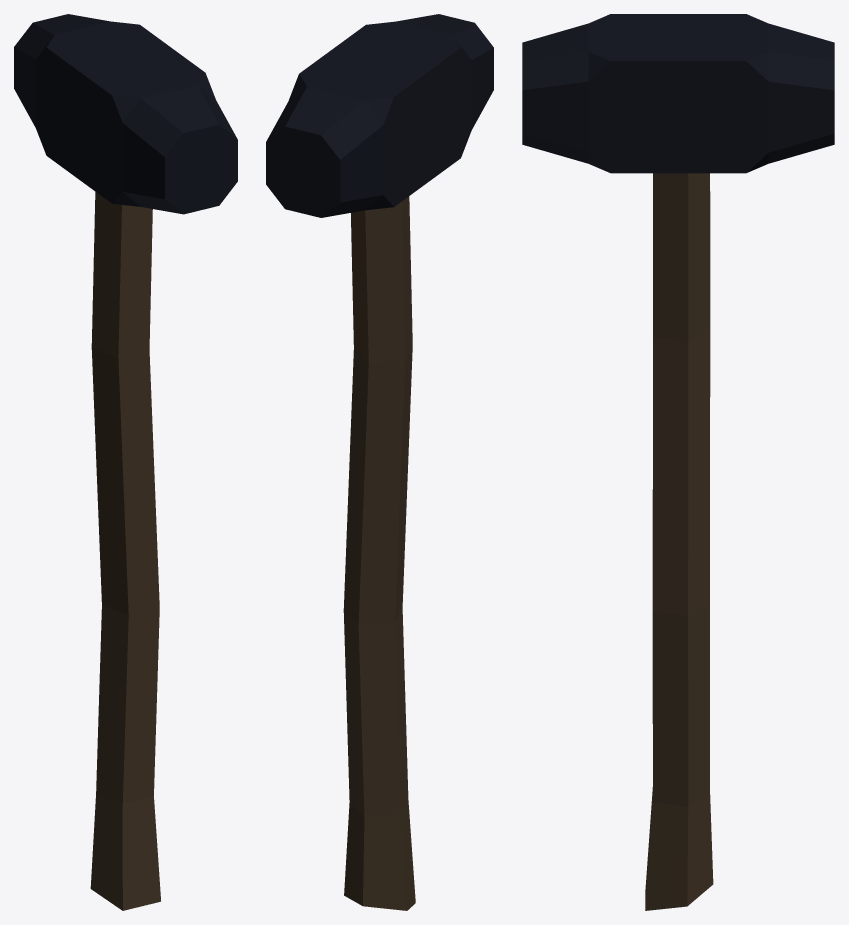
Rendered from HammerB.fbx.
The picture shows the model from 3 angles, left to right: view 1: azimuth 30°, elevation 25°; view 2: azimuth 150°, elevation 25°; view 3: azimuth 270°, elevation 25°; orthographic projection. The views are drawn at different scales.
Parts seen in each view (by area): view 1: HammerB; view 2: HammerB; view 3: HammerB.
Boxes of the visible parts, left/top/right/bottom form: HammerB: left=14, top=14, right=237, bottom=910; HammerB: left=266, top=14, right=493, bottom=910; HammerB: left=522, top=14, right=834, bottom=910.
Bounding box in the file's own units: 9.84 × 83.97 × 27.55.
